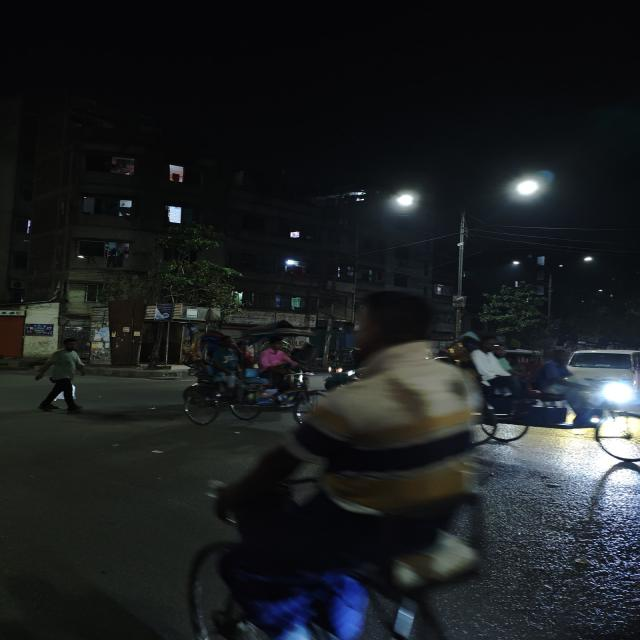car: (568, 346, 640, 407)
cng: (325, 341, 357, 387)
pedestrian: (36, 342, 88, 418)
rickshaw: (180, 325, 313, 429)
